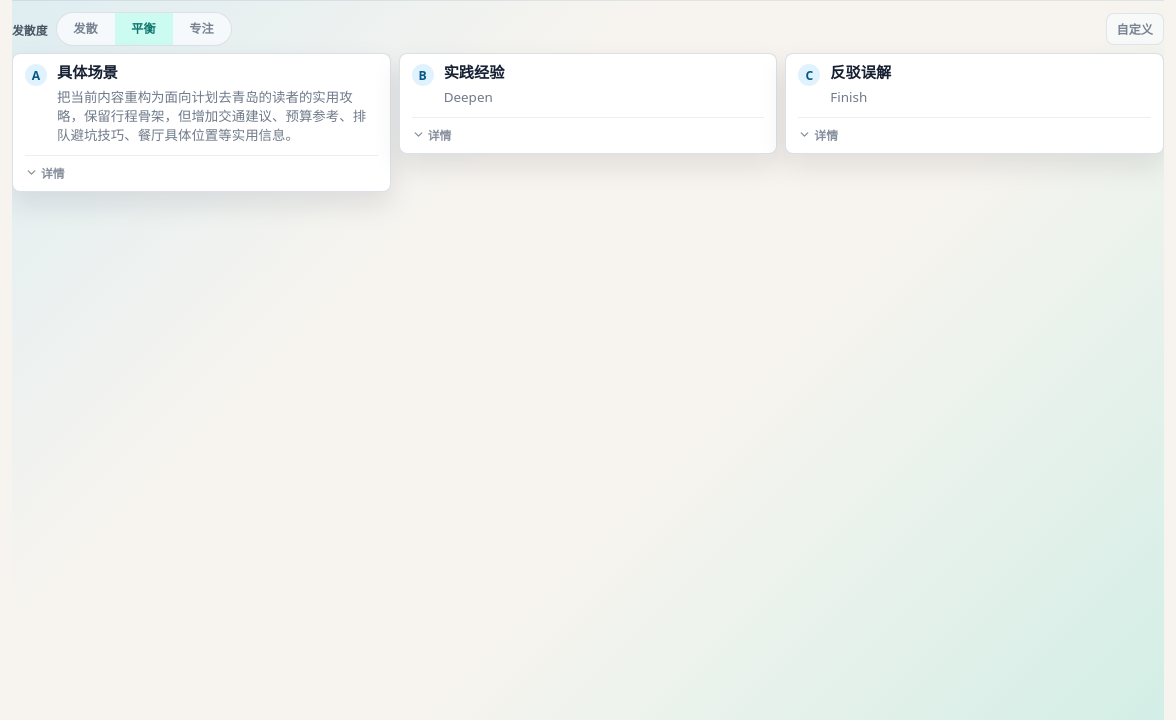
it: TreeCanvas › uses a quiet details action to expand option text before showing notes
Click the button with aria-label "A 展开详情" at (45, 173), box [25, 164, 65, 181]
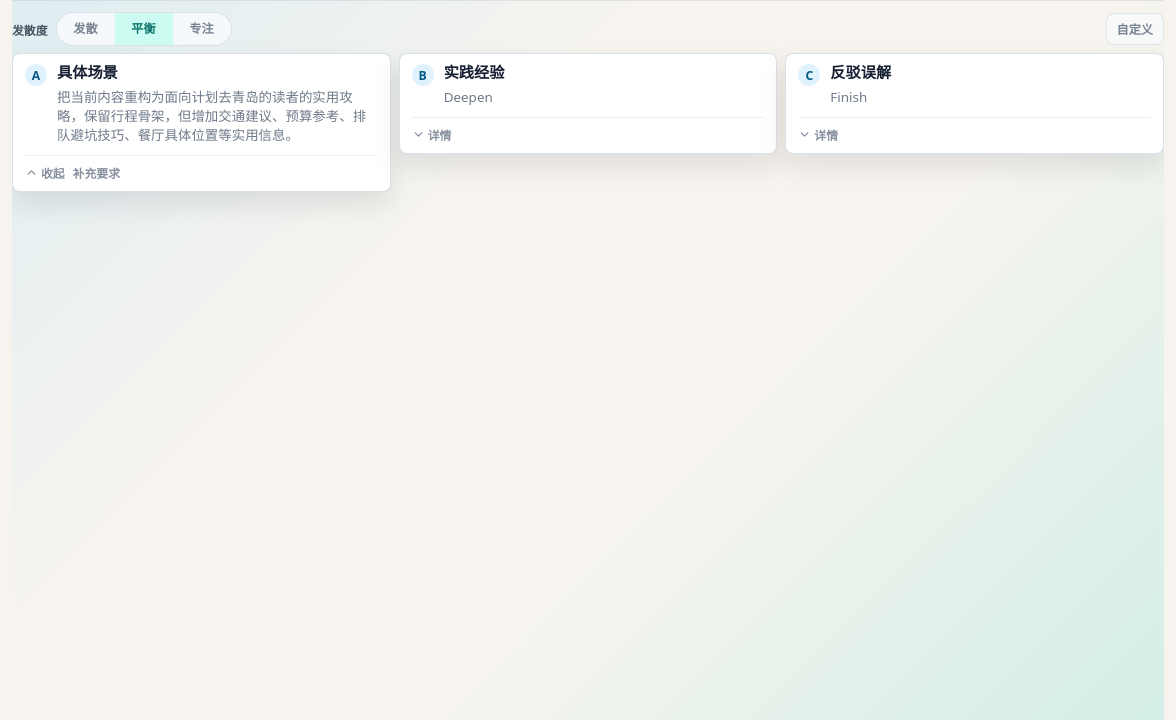
Check: the button with aria-label "A 收起详情" reads "收起", box [25, 164, 65, 181]
Check: the button with aria-label "A 补充要求" is shown, box [73, 164, 120, 181]
